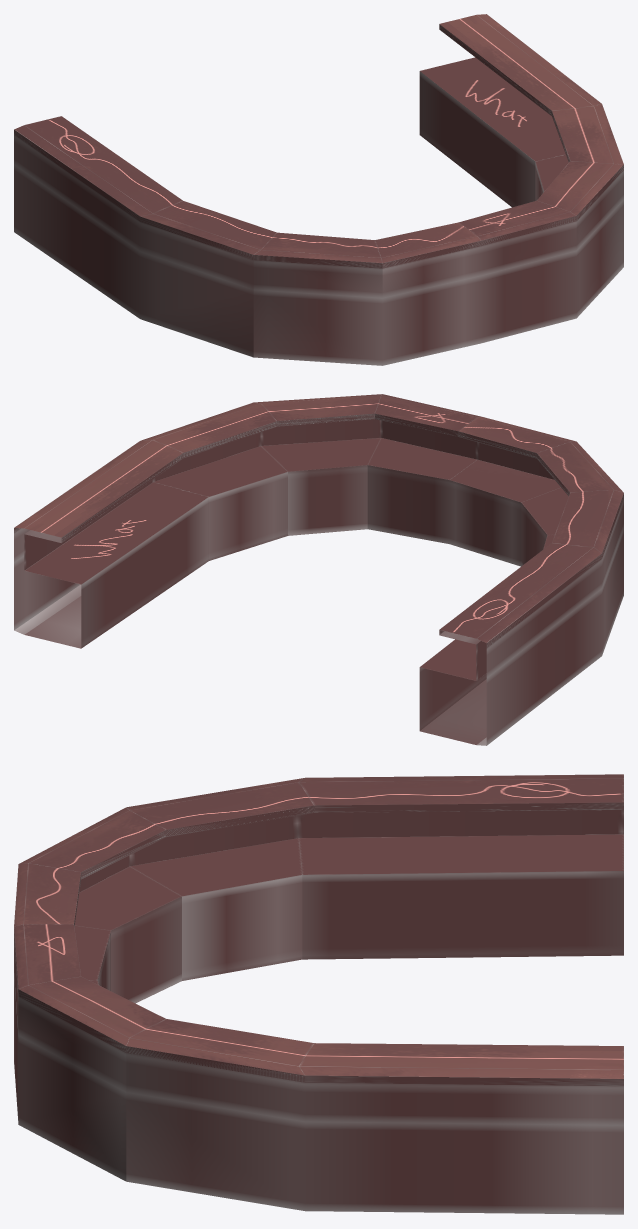
File: outerdonut.fbx
The picture shows the model from 3 angles, top to bottom: view 1: azimuth 30°, elevation 25°; view 2: azimuth 150°, elevation 25°; view 3: azimuth 270°, elevation 25°; orthographic projection. The views are drawn at different scales.
Parts seen in each view (by area): view 1: pasted__pCube1; view 2: pasted__pCube1; view 3: pasted__pCube1.
Boxes of the visible parts, box(x1,y1,x2,y2) form: pasted__pCube1: box(14, 14, 623, 365); pasted__pCube1: box(14, 394, 623, 745); pasted__pCube1: box(14, 774, 623, 1214).
Size of the model in its own units: 5.8 by 1.25 by 4.91.
1 material, 1 textured.
